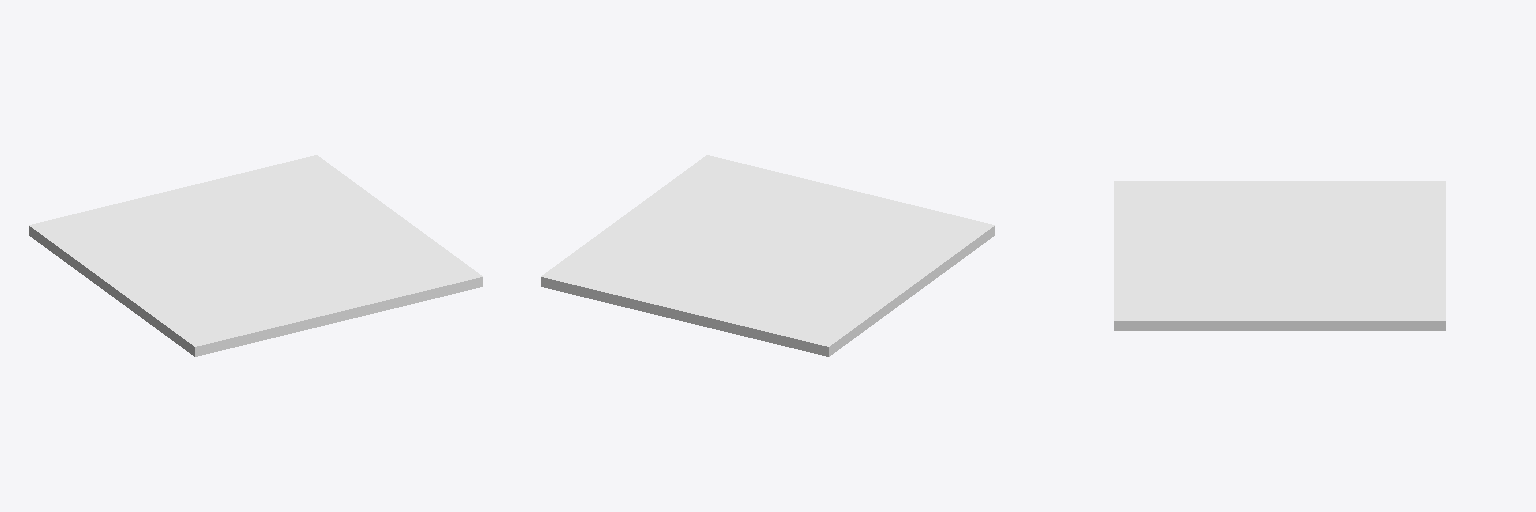
The model's file is load_E.obj.
The picture shows the model from 3 angles: view 1: azimuth 30°, elevation 25°; view 2: azimuth 150°, elevation 25°; view 3: azimuth 270°, elevation 25°; orthographic projection.
Bounding box in the file's own units: 30 × 1 × 30.